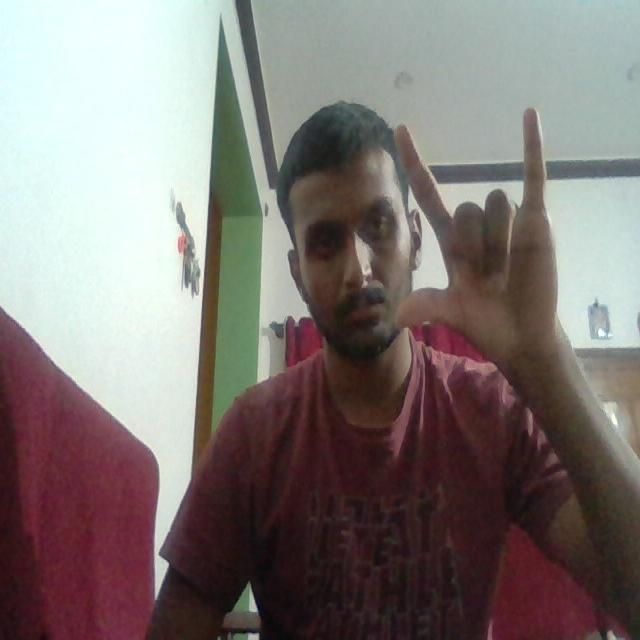iloveyou: (363, 106, 571, 352)
